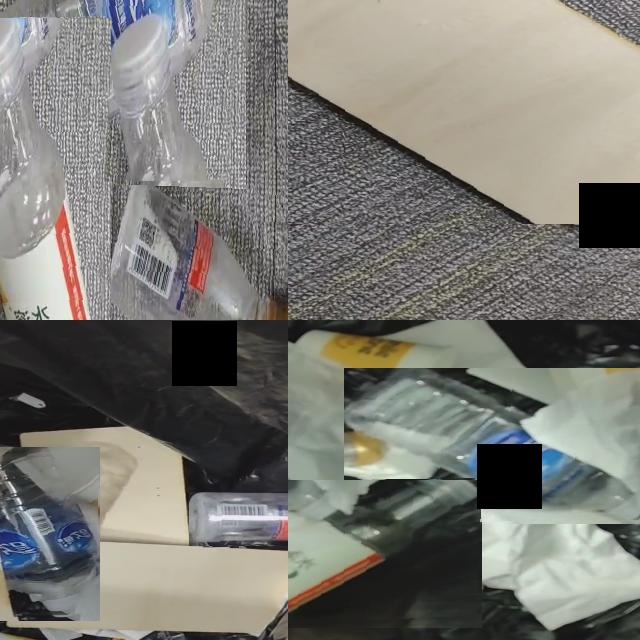bottle: (344, 368, 640, 521), (0, 0, 217, 184), (0, 18, 92, 320), (288, 480, 482, 614), (111, 177, 287, 320), (0, 447, 97, 616), (189, 493, 288, 545)
carton: (288, 0, 640, 224)
dixie_cup: (297, 331, 453, 398), (545, 424, 640, 487)
paper: (318, 486, 640, 630), (288, 342, 473, 520), (385, 320, 531, 406), (42, 628, 150, 640), (191, 523, 240, 548)
